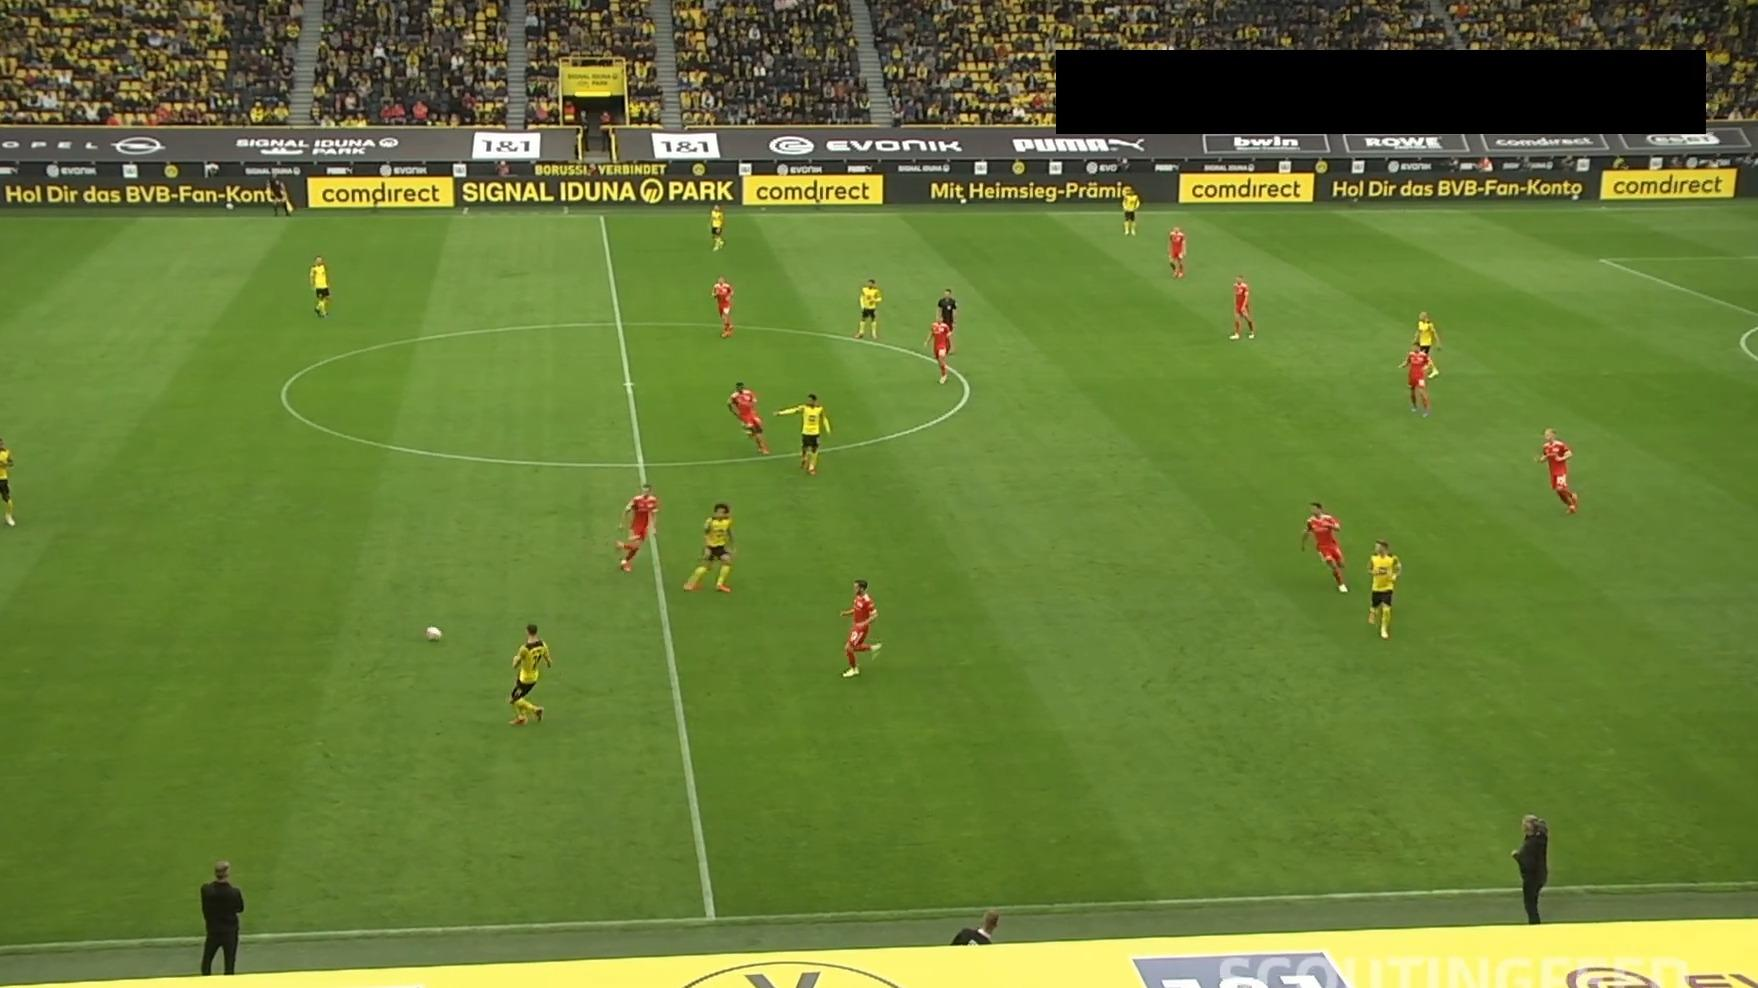ball: (424, 623, 443, 644)
